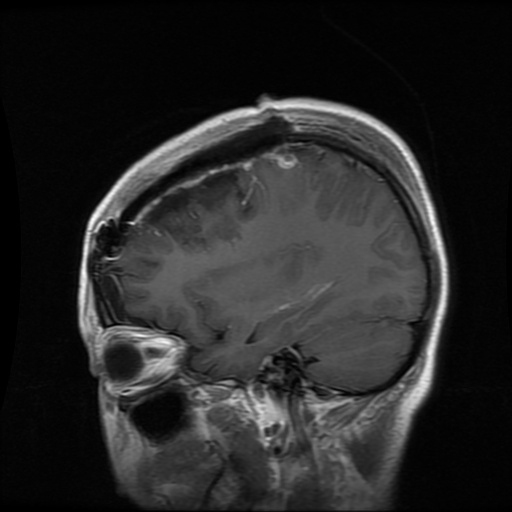glioma: (146, 170, 257, 246)
